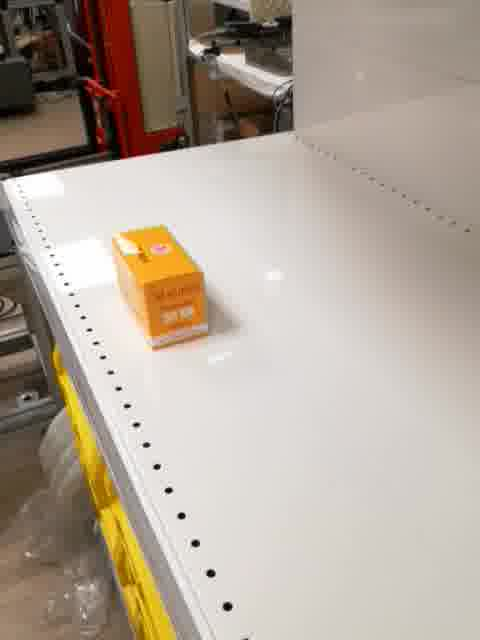jasminetea: (109, 222, 219, 357)
